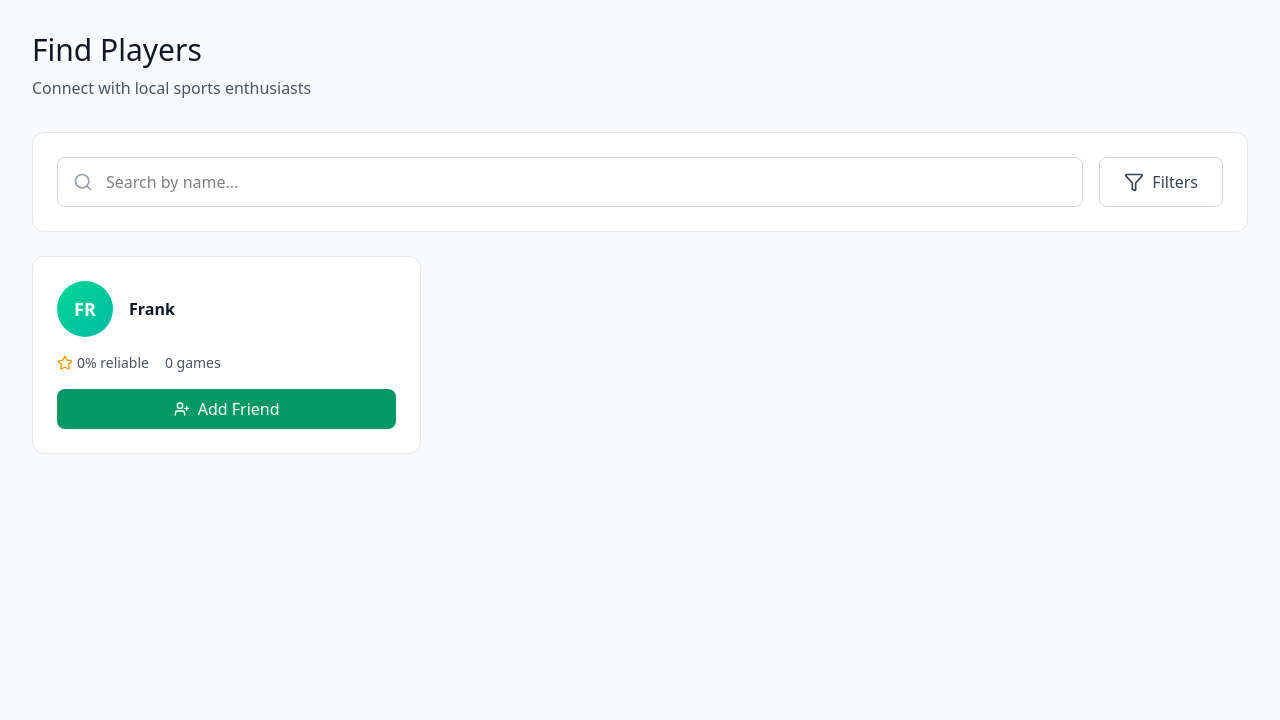
PlayerSearch › dismiss error button clears the error banner
Check: the heading "Frank" is shown, box [129, 297, 175, 321]
Click the button "Add Friend": {"x": 227, "y": 409} [57, 389, 396, 429]
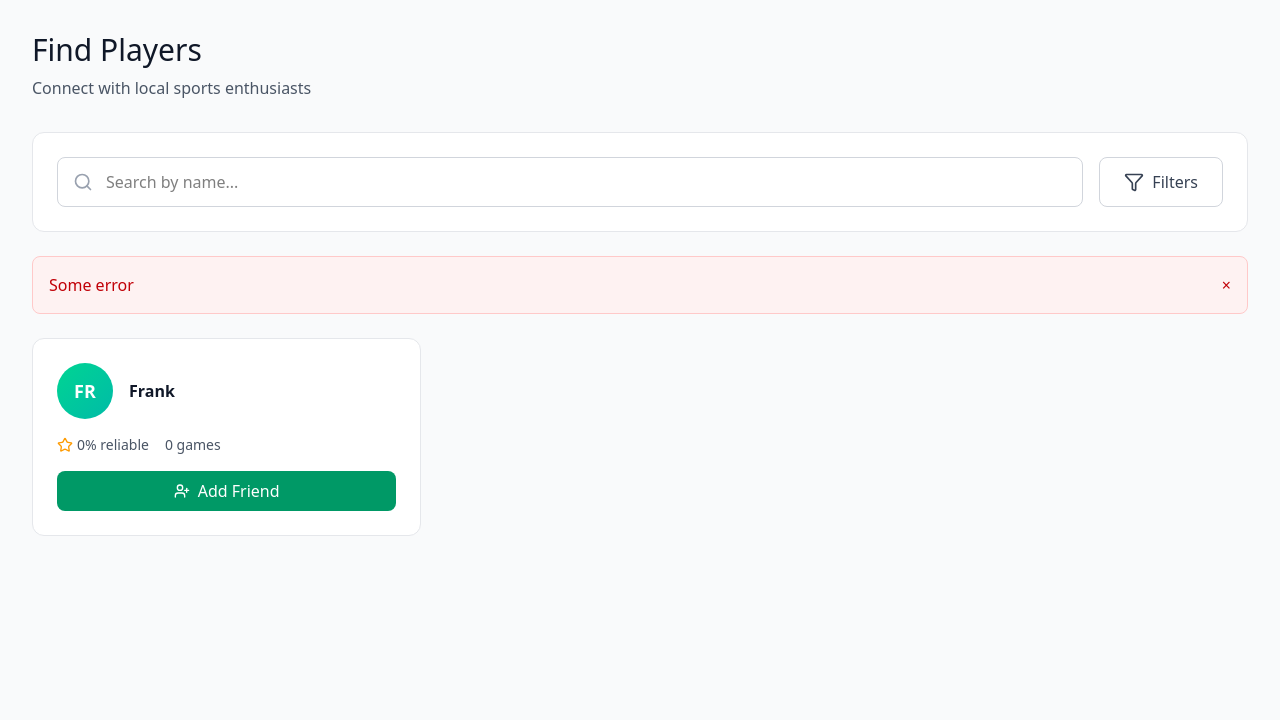
Check: the text "Some error" is shown, box [49, 273, 134, 297]
Click the button named "Dismiss error": {"x": 1226, "y": 285} [1222, 273, 1231, 297]
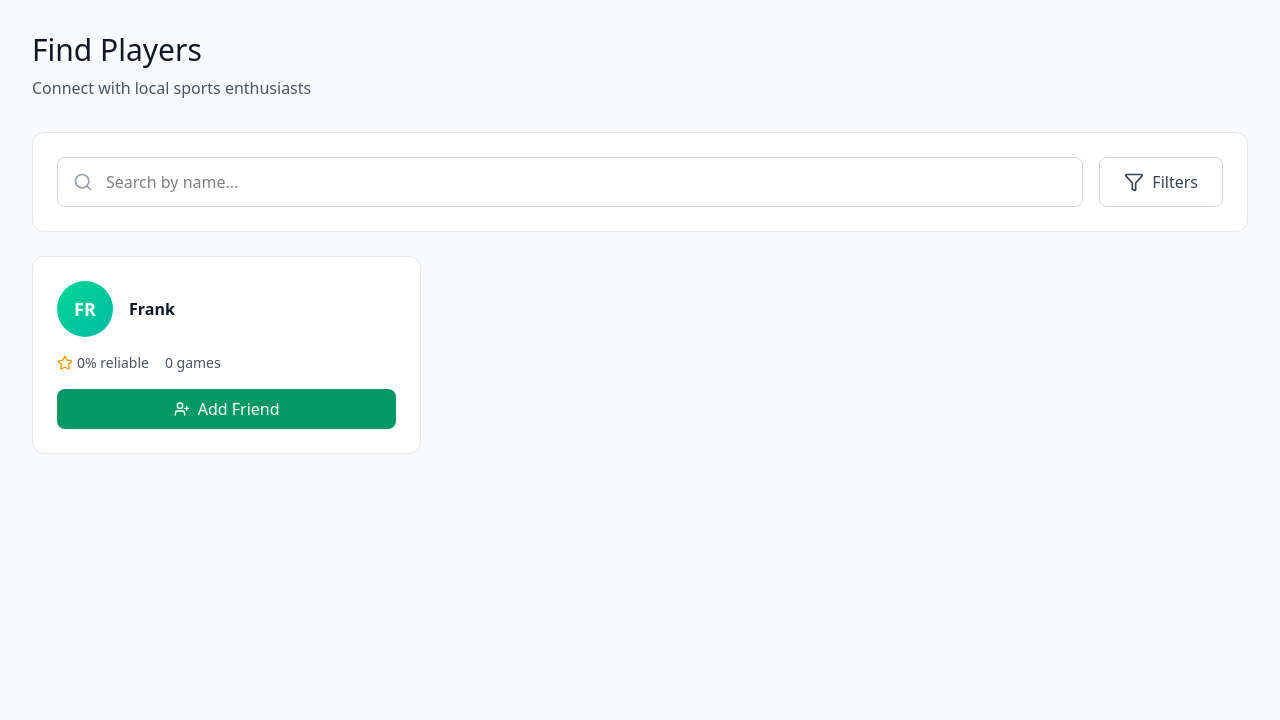
Check: the text "Some error" is gone
